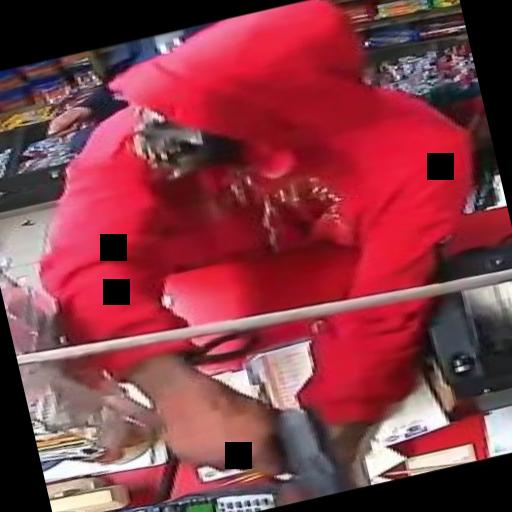Handgun: (163, 397, 349, 512)
